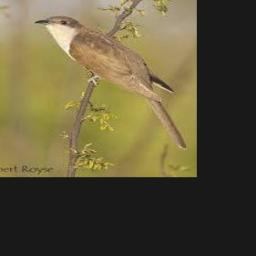Cuckoo: (34, 16, 187, 150)
